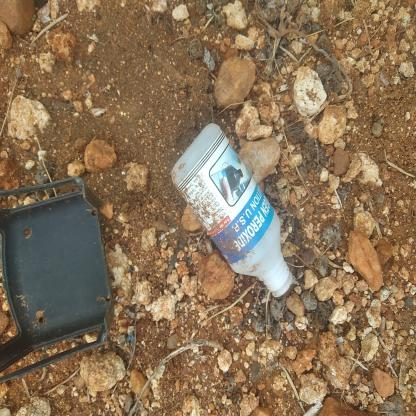bottle: (88, 228, 221, 393)
